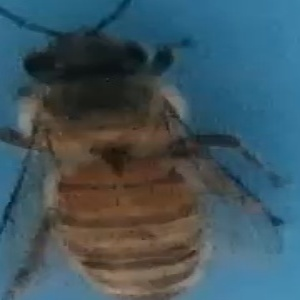bee: (8, 1, 288, 300)
